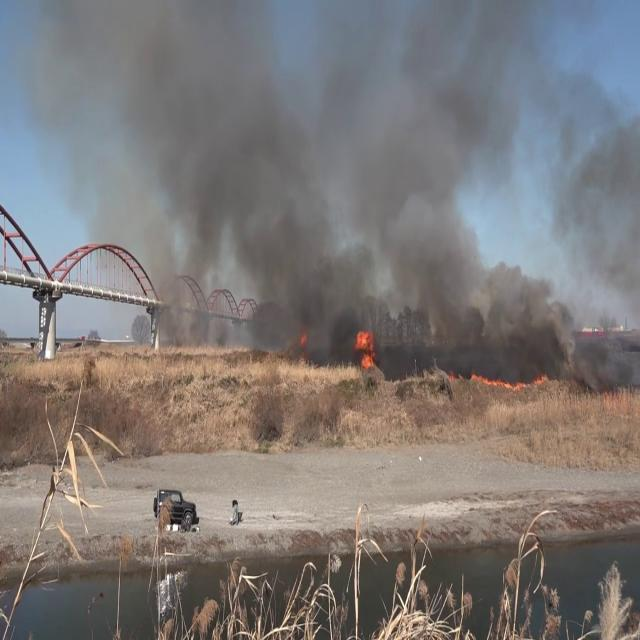Fire: (354, 321, 378, 370)
Smoke: (27, 0, 628, 370)
